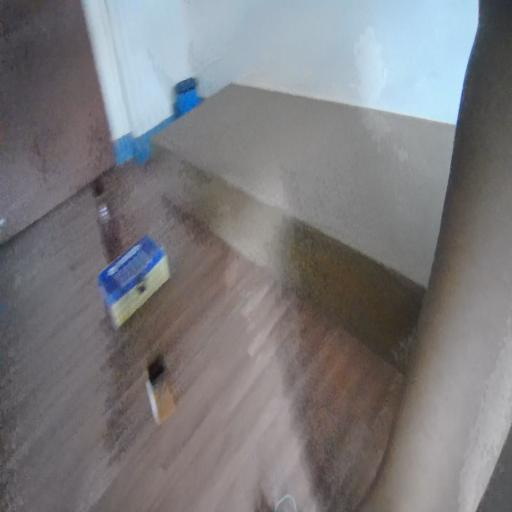Bottle: (80, 168, 124, 238)
